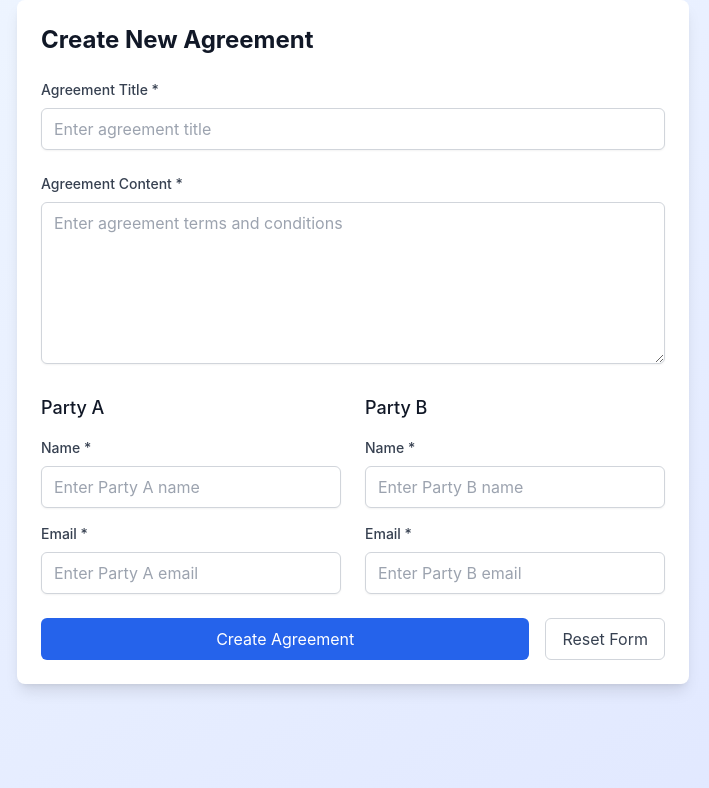
CreateAgreementForm › Form Validation › shows validation error for empty title on submission
Step 1. Click the button "Create Agreement" → (285, 639), box [41,618,529,660]
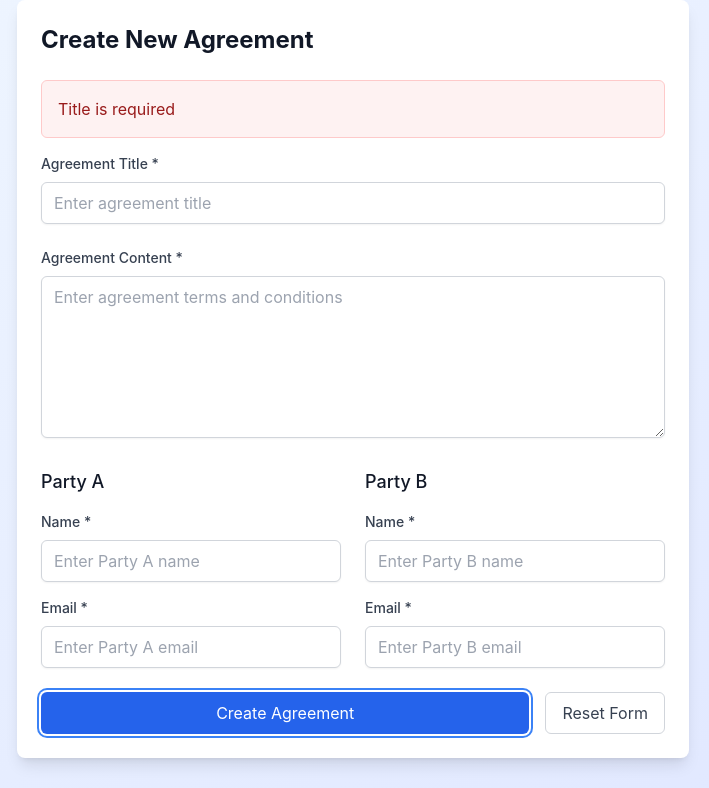
Result: the text "Title is required" is shown at [58,99,175,119]
